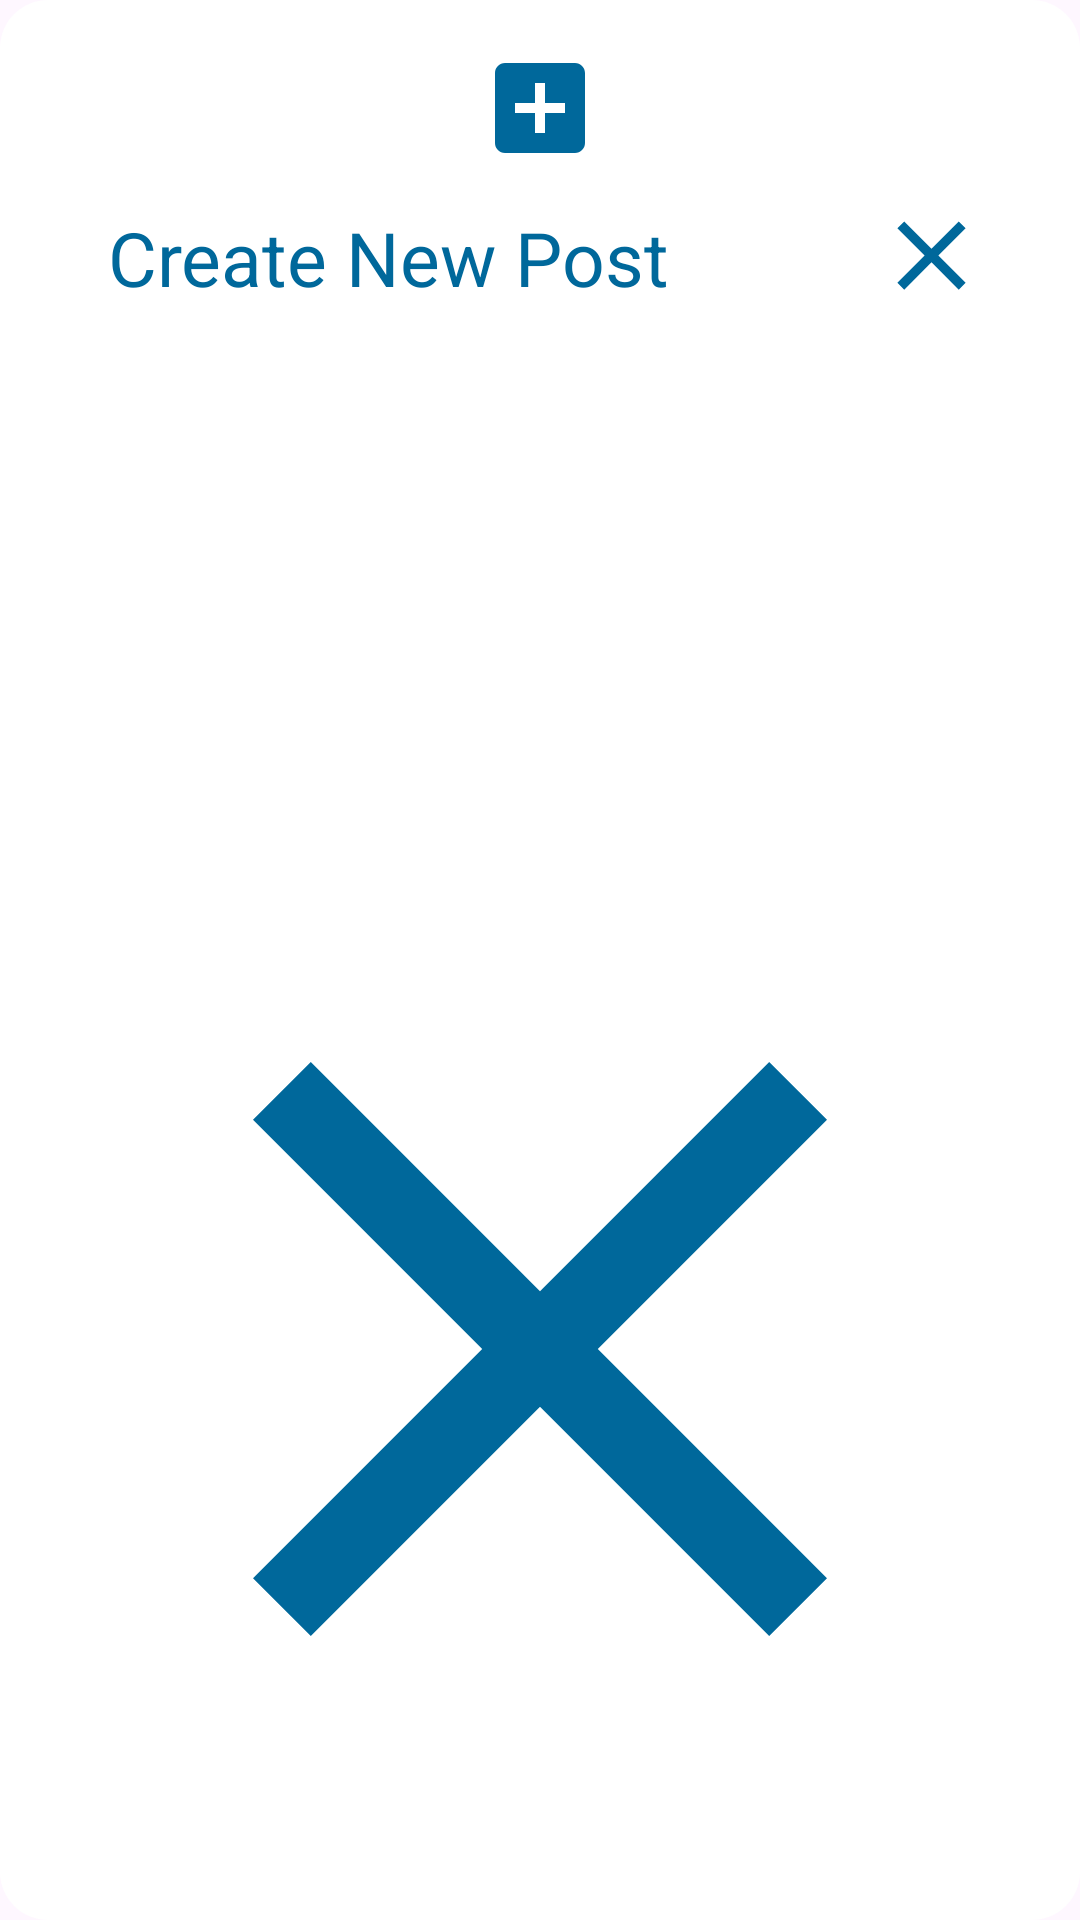

Where icons sit on this 1080 × 1920 app screen, as bbox=(x1, y1, x2, y2):
add box: bbox=(495, 63, 585, 153)
